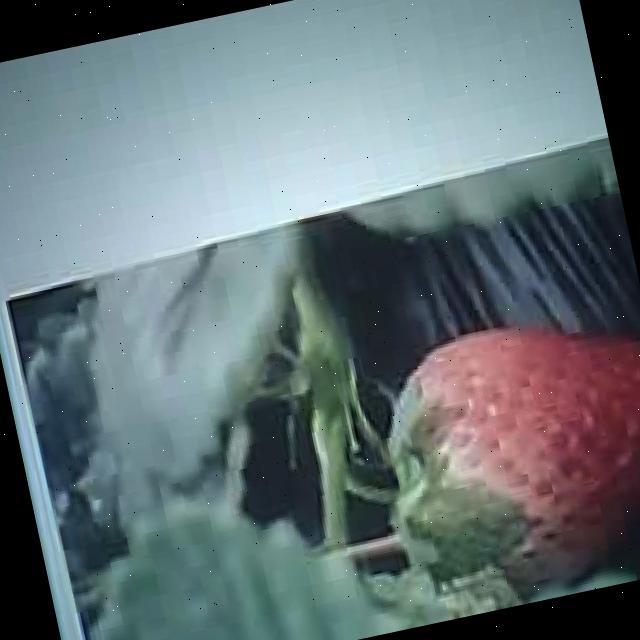strawberry: (366, 295, 640, 606)
